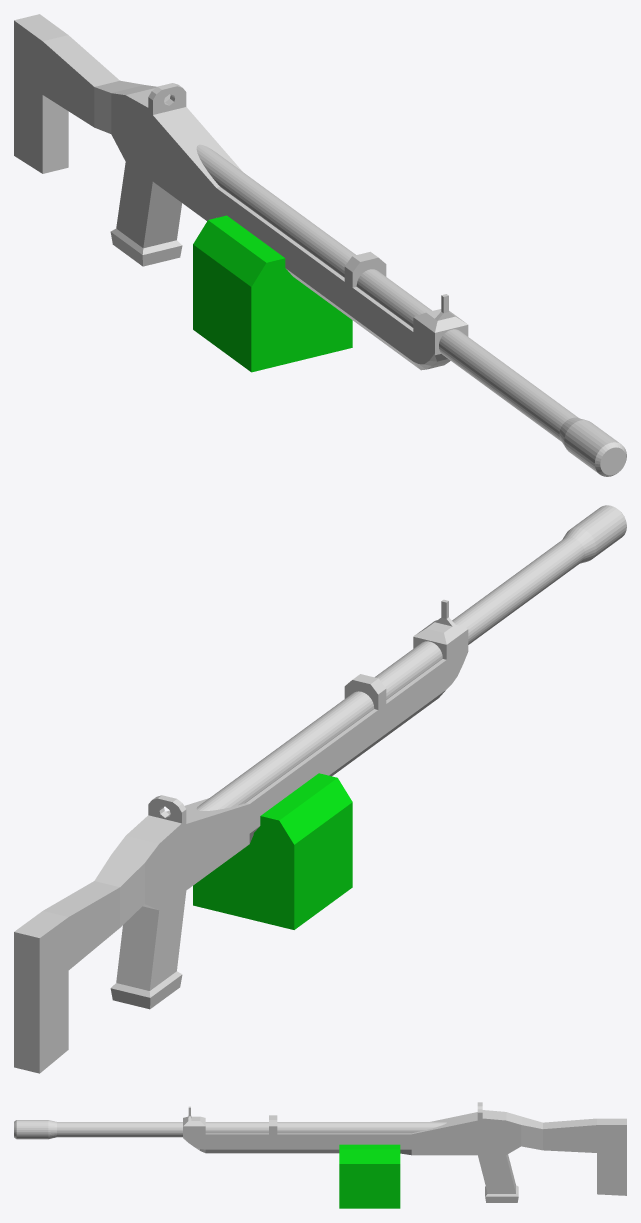
Rendered from Lmg Draft.fbx.
3 renders of one model, top to bottom at view 1: azimuth 30°, elevation 25°; view 2: azimuth 150°, elevation 25°; view 3: azimuth 270°, elevation 25°, orthographic. The views are drawn at different scales.
Parts seen in each view (by area): view 1: Cube.002; view 2: Cube.002; view 3: Cube.002.
Boxes of the visible parts, box(x1,y1,x2,y2) form: Cube.002: box(14, 14, 626, 476); Cube.002: box(14, 505, 626, 1073); Cube.002: box(14, 1102, 626, 1208).
Bounding box in the file's own units: 85.21 × 145 × 855.
